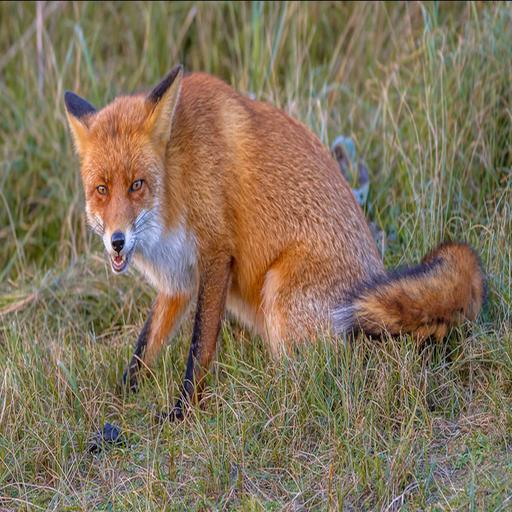Fox: (59, 62, 490, 433)
